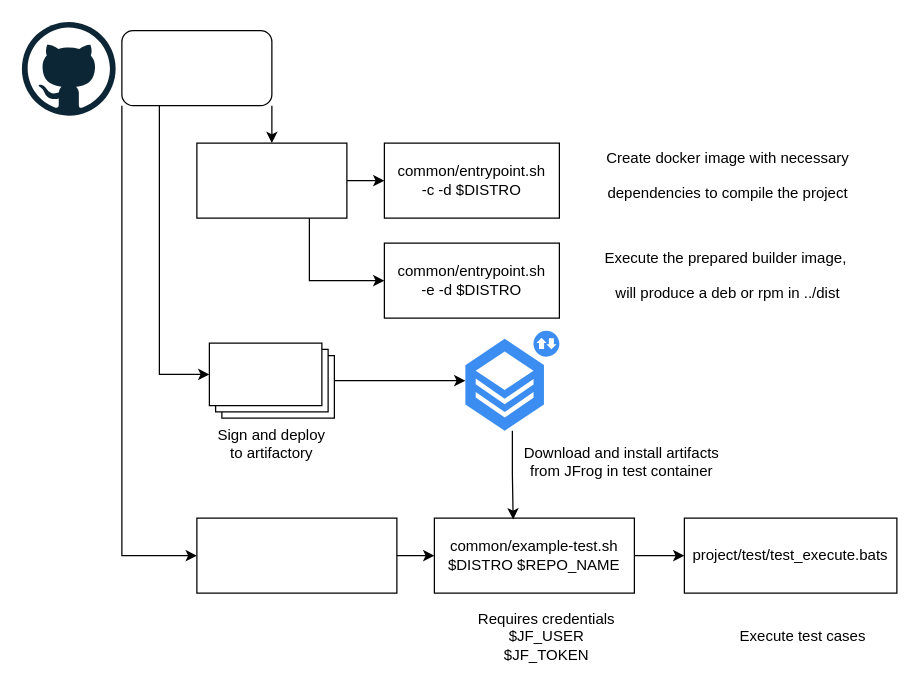
Some shapes in this 919 by 690 pixel diagram are drawn without their labels. Each missing label, with the centre of its shape:
"common/test/gha-main.sh" goes at point 296,555.
"Github Action build-artifacts.yml" goes at point 196,67.
"project/gha-main.sh" goes at point 271,180.
